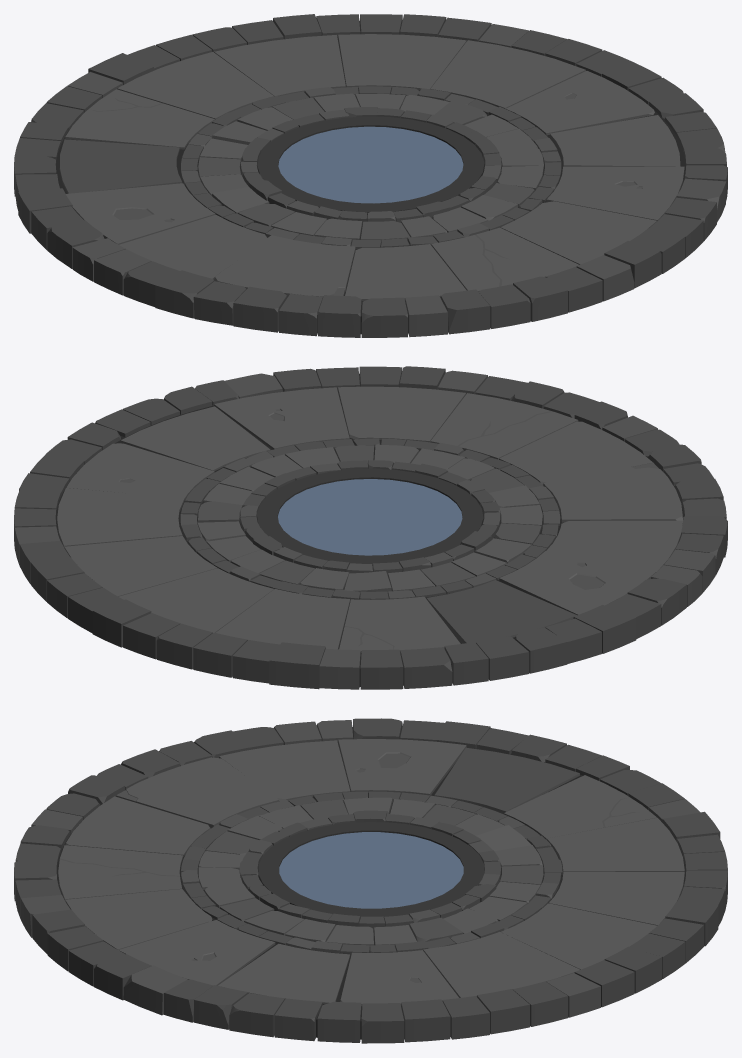
Rendered from Arena_01.fbx.
The picture shows the model from 3 angles, top to bottom: view 1: azimuth 30°, elevation 25°; view 2: azimuth 150°, elevation 25°; view 3: azimuth 270°, elevation 25°; orthographic projection.
Visible parts, largest first — view 1: Arena_01_LOD0; view 2: Arena_01_LOD0; view 3: Arena_01_LOD0.
Part boxes in pixels (x1,y1,x2,y2): Arena_01_LOD0: (14, 14, 727, 337); Arena_01_LOD0: (14, 366, 727, 689); Arena_01_LOD0: (14, 718, 727, 1043).
Size of what is drawn, in the model's own units: 1530 by 64 by 1530.
